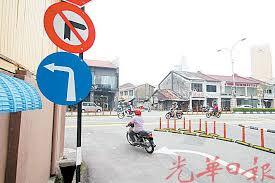no_right_turn: (43, 1, 95, 51)
